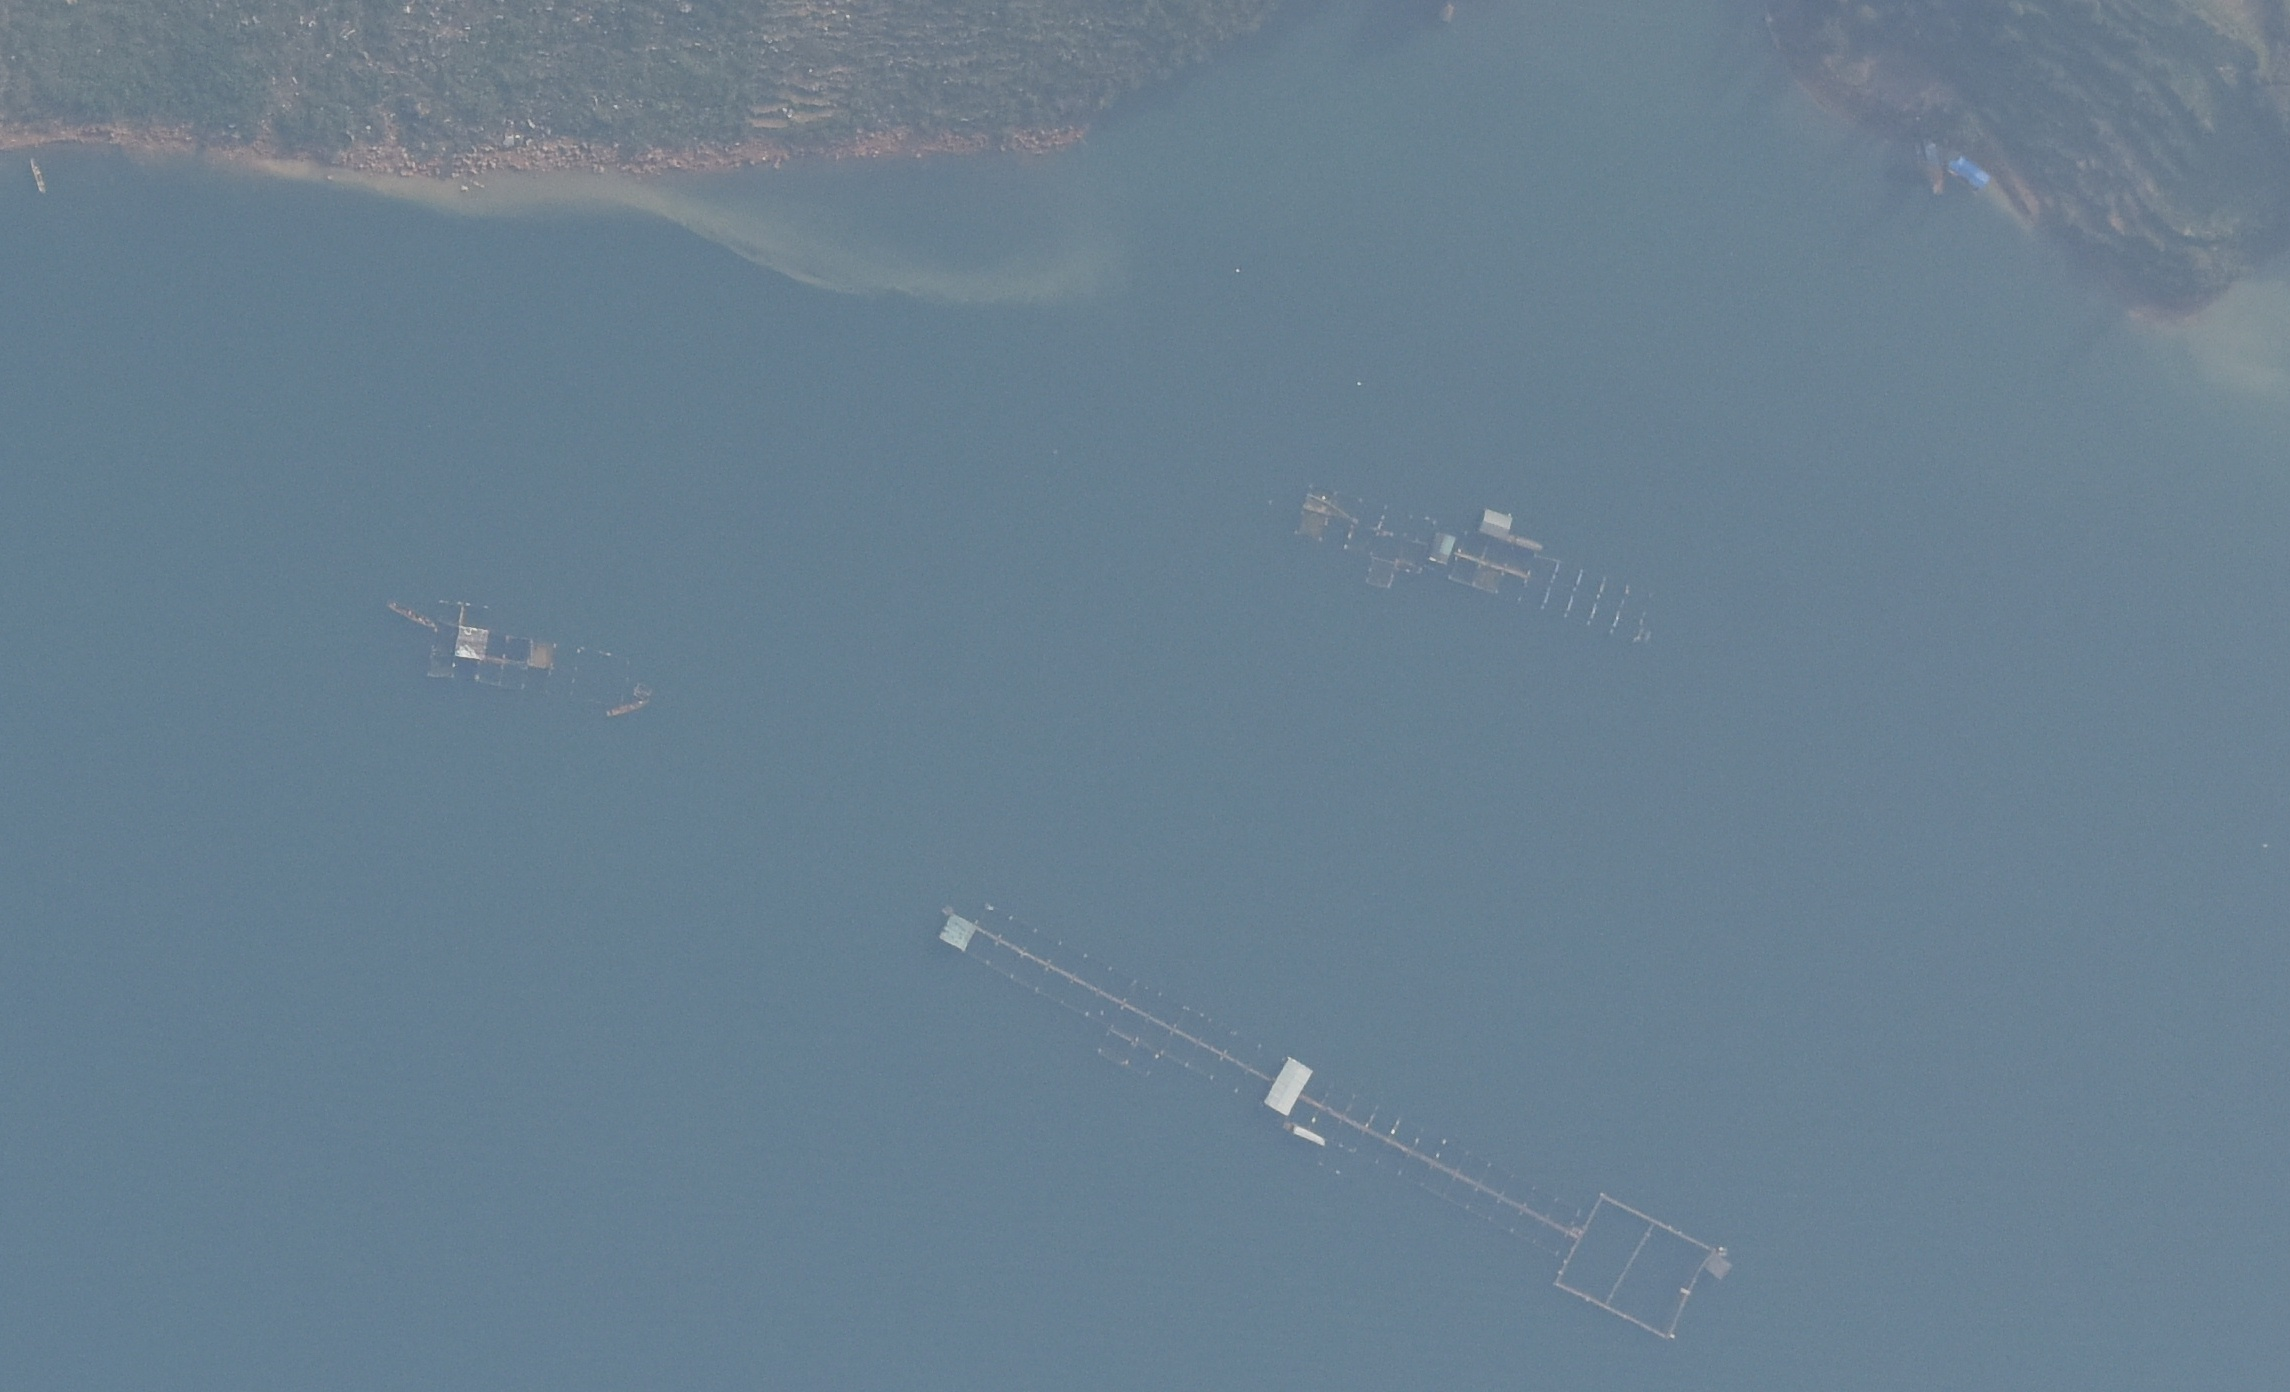cultivation-mesh-cage: (1309, 1055, 1735, 1345), (932, 878, 1264, 1132), (430, 582, 631, 700), (1287, 468, 1425, 605), (1446, 537, 1587, 615)
prefabricated-house: (1264, 1045, 1318, 1117), (1945, 150, 1992, 191), (1475, 507, 1515, 541), (1425, 532, 1457, 566)
ship: (386, 594, 440, 635), (1282, 1120, 1331, 1152), (28, 152, 51, 201), (1511, 533, 1544, 556), (604, 698, 648, 715)
